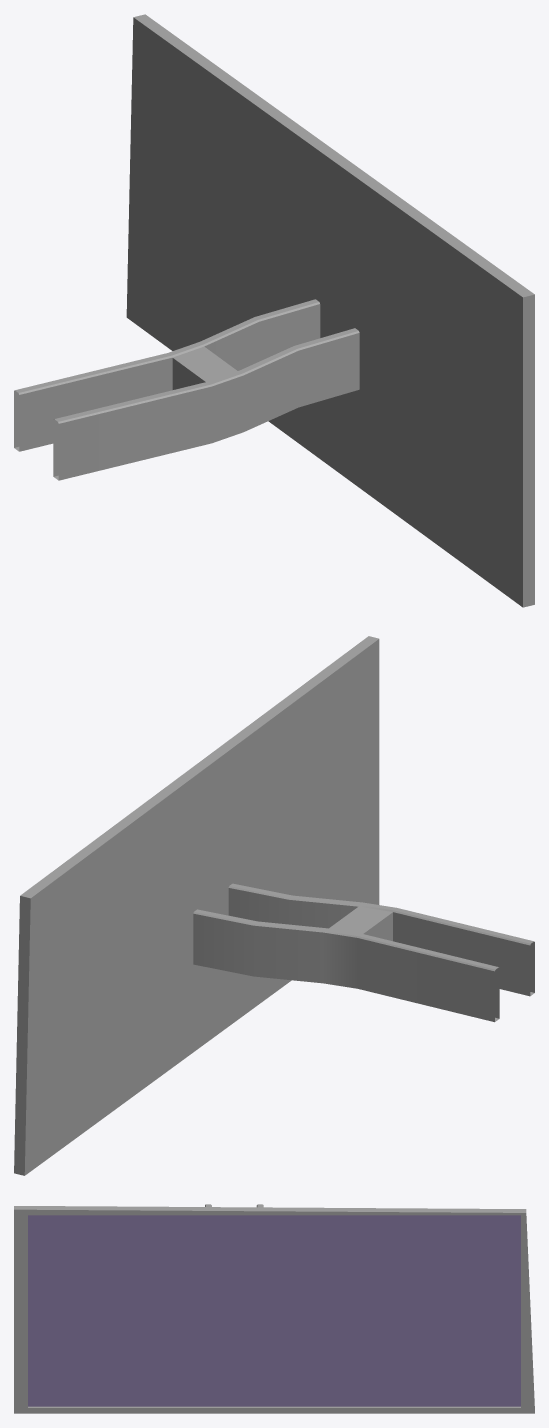
The model's file is Panel_tv_v2.fbx.
3 views of the same model, one above another, from view 1: azimuth 30°, elevation 25°; view 2: azimuth 150°, elevation 25°; view 3: azimuth 270°, elevation 25° (orthographic). The views are drawn at different scales.
Parts seen in each view (by area): view 1: polySurface36, pasted__Panel2; view 2: polySurface36, pasted__Panel2; view 3: polySurface35, pasted__Panel2, polySurface36.
Boxes of the visible parts, box(x1,y1,x2,y2) form: polySurface36: box(14, 14, 534, 607); pasted__Panel2: box(14, 18, 534, 599); polySurface36: box(14, 636, 534, 1175); pasted__Panel2: box(16, 656, 534, 1167); polySurface35: box(28, 1215, 520, 1406); pasted__Panel2: box(14, 1209, 534, 1413); polySurface36: box(14, 1204, 534, 1413).
Size of the model in its own units: 79.03 by 70.78 by 164.
